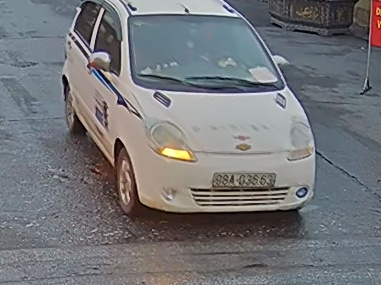vehicle plate: (209, 169, 281, 190)
